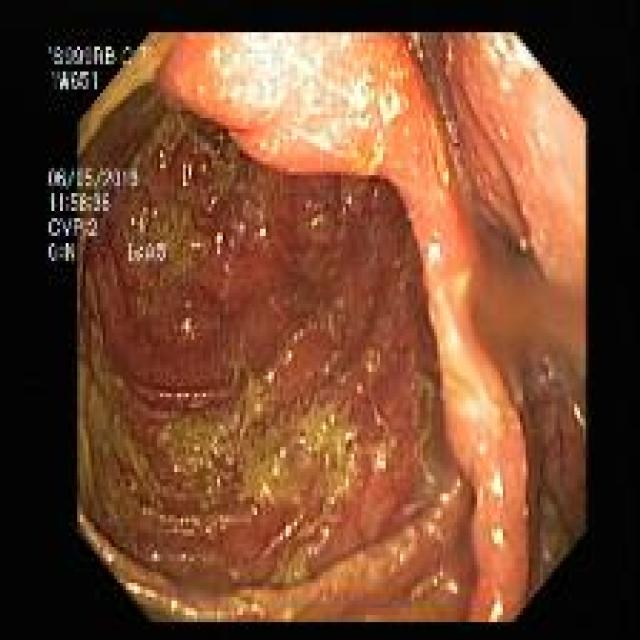ulcerative-colitis: (80, 83, 474, 618)
